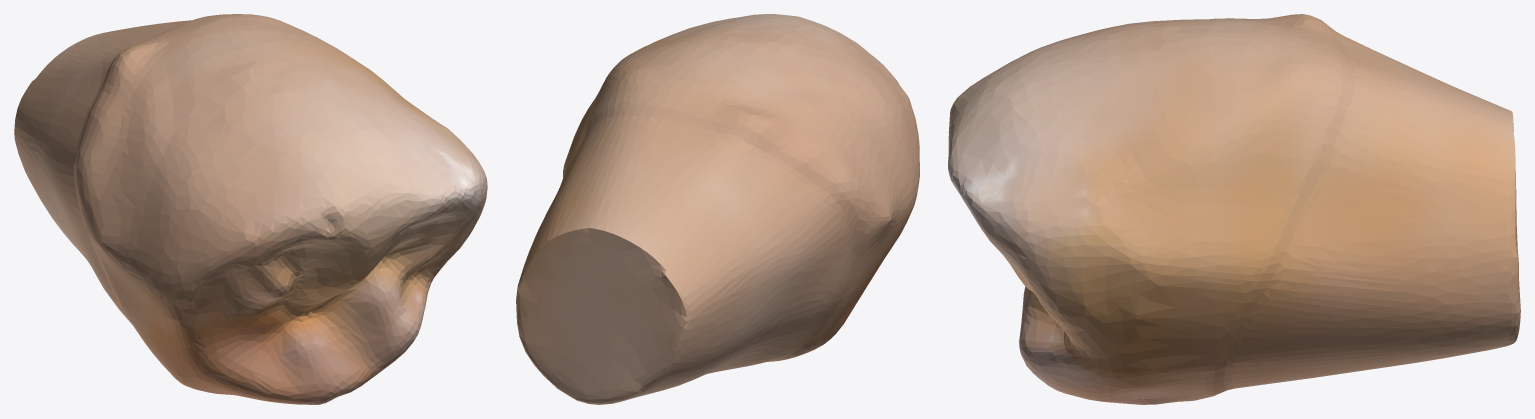
File: local_t34_7780.obj
3 views of the same model, side by side, from view 1: azimuth 30°, elevation 25°; view 2: azimuth 150°, elevation 25°; view 3: azimuth 270°, elevation 25° (orthographic). The views are drawn at different scales.
Bounding box in the file's own units: 8.1 × 7.6 × 10.98.
1 material, 1 textured.
